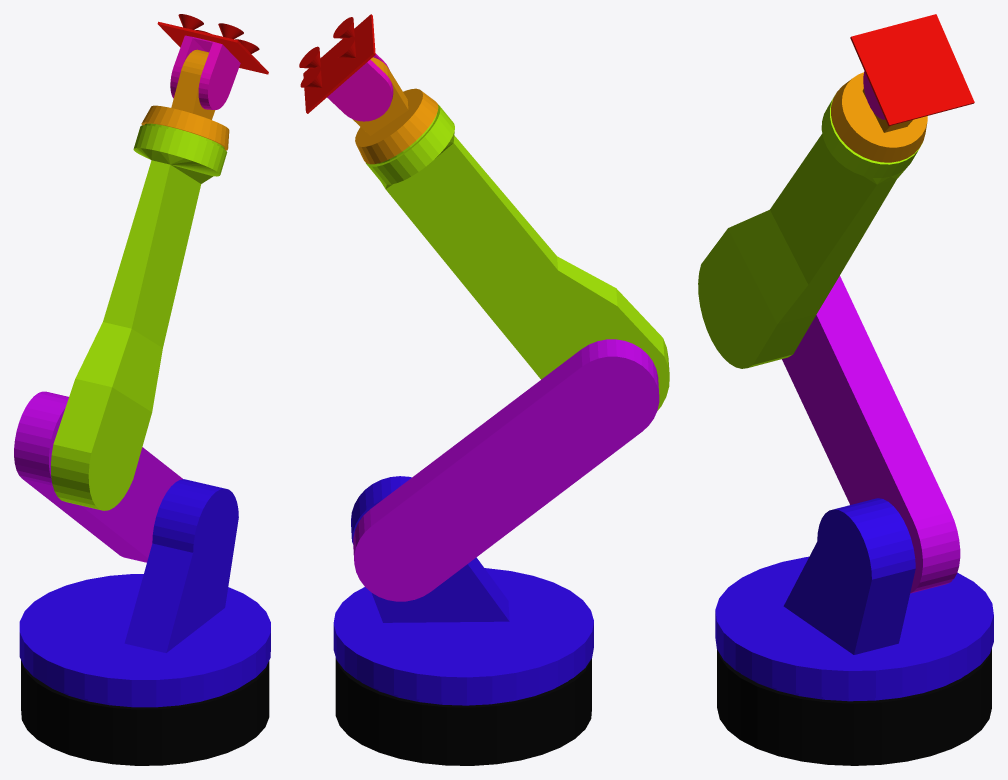
The model's file is ARMRIG_DEMO_FINAL.fbx.
3 views of the same model, side by side, from view 1: azimuth 30°, elevation 25°; view 2: azimuth 150°, elevation 25°; view 3: azimuth 270°, elevation 25° (orthographic). The views are drawn at different scales.
Parts seen in each view (by area): view 1: 01_BASE SUP, 03_ARM 2, 00_BASE, 02_ARM 1, 04_ROTE HAND, 05_MAIN HAND, 06_HAND; view 2: 02_ARM 1, 01_BASE SUP, 03_ARM 2, 00_BASE, 04_ROTE HAND, 06_HAND, 05_MAIN HAND; view 3: 01_BASE SUP, 03_ARM 2, 02_ARM 1, 00_BASE, 06_HAND, 04_ROTE HAND.
Boxes of the visible parts, x1,y1,x2,y2 form: 01_BASE SUP: [19, 479, 270, 707]; 03_ARM 2: [50, 123, 227, 510]; 00_BASE: [21, 660, 269, 765]; 02_ARM 1: [14, 391, 182, 562]; 04_ROTE HAND: [141, 49, 229, 150]; 05_MAIN HAND: [170, 35, 240, 109]; 06_HAND: [157, 14, 268, 74]; 02_ARM 1: [353, 339, 659, 601]; 01_BASE SUP: [333, 476, 593, 705]; 03_ARM 2: [366, 104, 669, 410]; 00_BASE: [335, 658, 591, 765]; 04_ROTE HAND: [352, 57, 438, 164]; 06_HAND: [299, 14, 375, 113]; 05_MAIN HAND: [327, 53, 393, 121]; 01_BASE SUP: [715, 498, 993, 701]; 03_ARM 2: [698, 96, 922, 368]; 02_ARM 1: [782, 276, 960, 593]; 00_BASE: [717, 648, 991, 765]; 06_HAND: [850, 14, 974, 126]; 04_ROTE HAND: [831, 72, 927, 162].
Bounding box in the file's own units: 556 × 1166 × 430.
